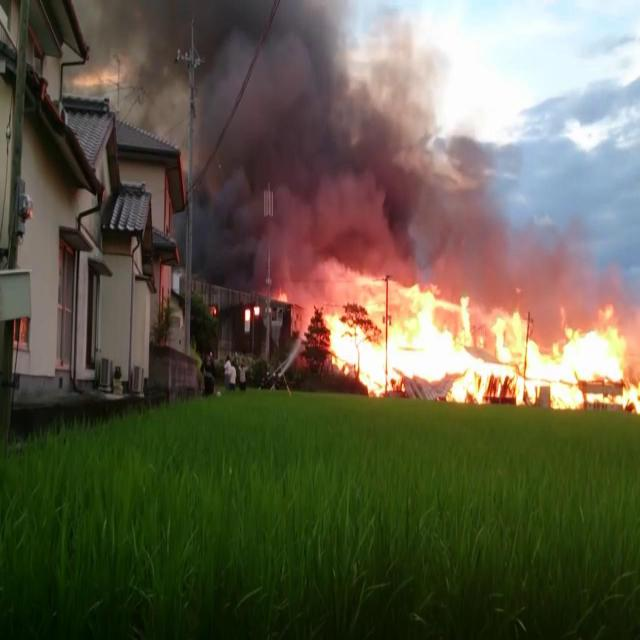Fire: (210, 303, 218, 315)
